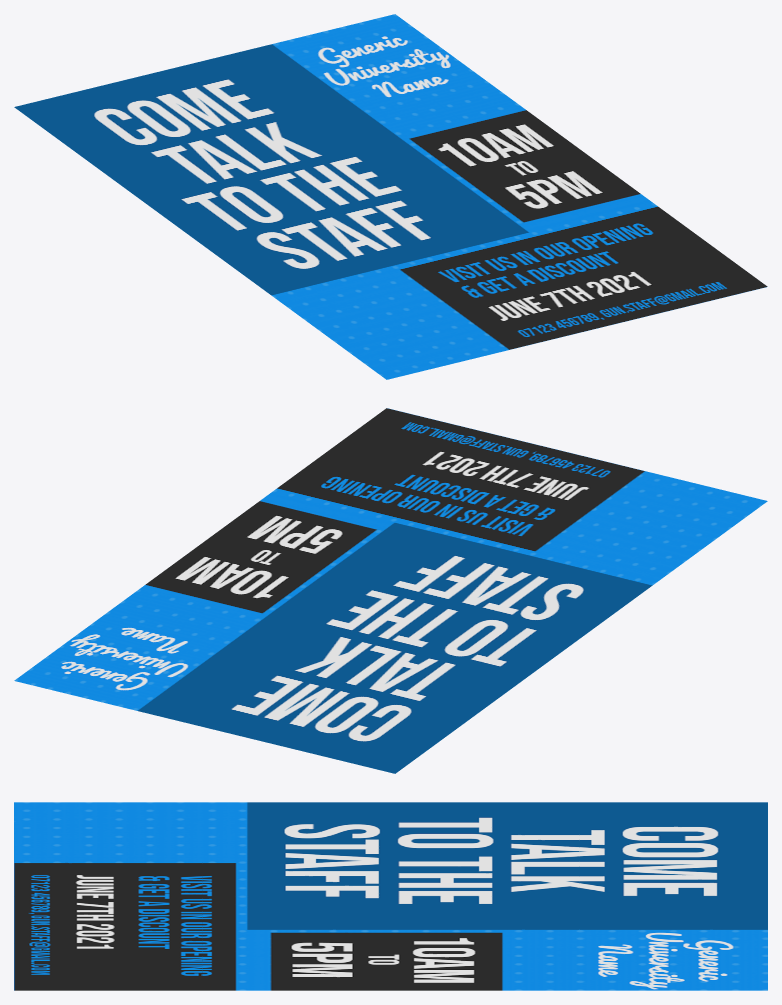
File: leaflet 1.fbx
3 renders of one model, top to bottom at view 1: azimuth 30°, elevation 25°; view 2: azimuth 150°, elevation 25°; view 3: azimuth 270°, elevation 25°, orthographic.
Parts seen in each view (by area): view 1: Plane002; view 2: Plane002; view 3: Plane002.
Boxes of the visible parts, box(x1,y1,x2,y2) form: Plane002: box(14, 14, 767, 379); Plane002: box(14, 408, 767, 773); Plane002: box(14, 802, 767, 990).
Size of the model in its own units: 25.6 by 2.66e-15 by 43.35.
1 material, 1 textured.
